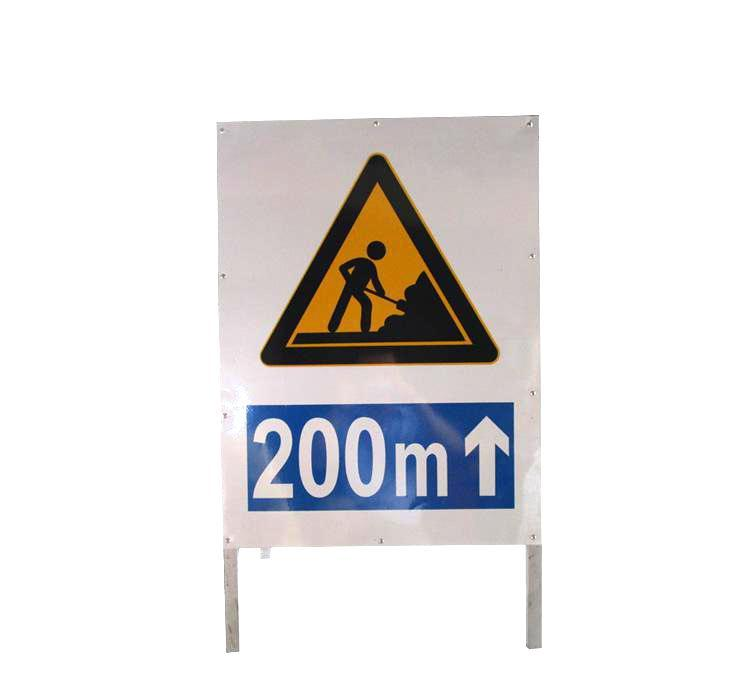sign: (219, 121, 539, 538)
